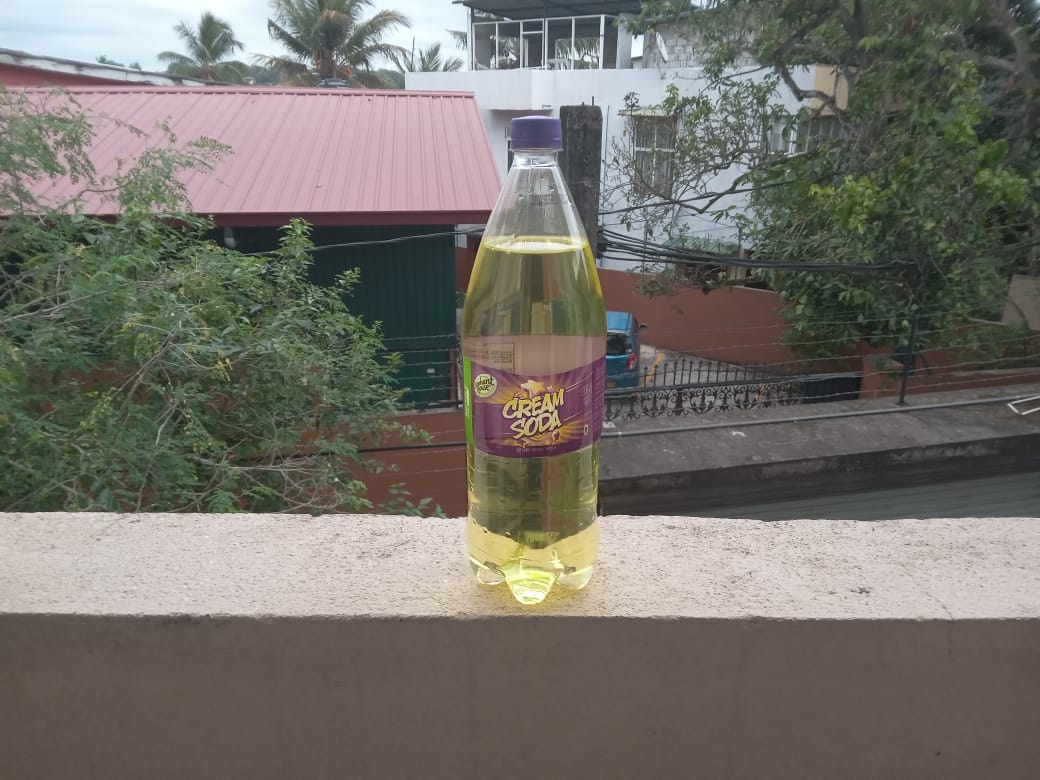L: (461, 112, 613, 615)
